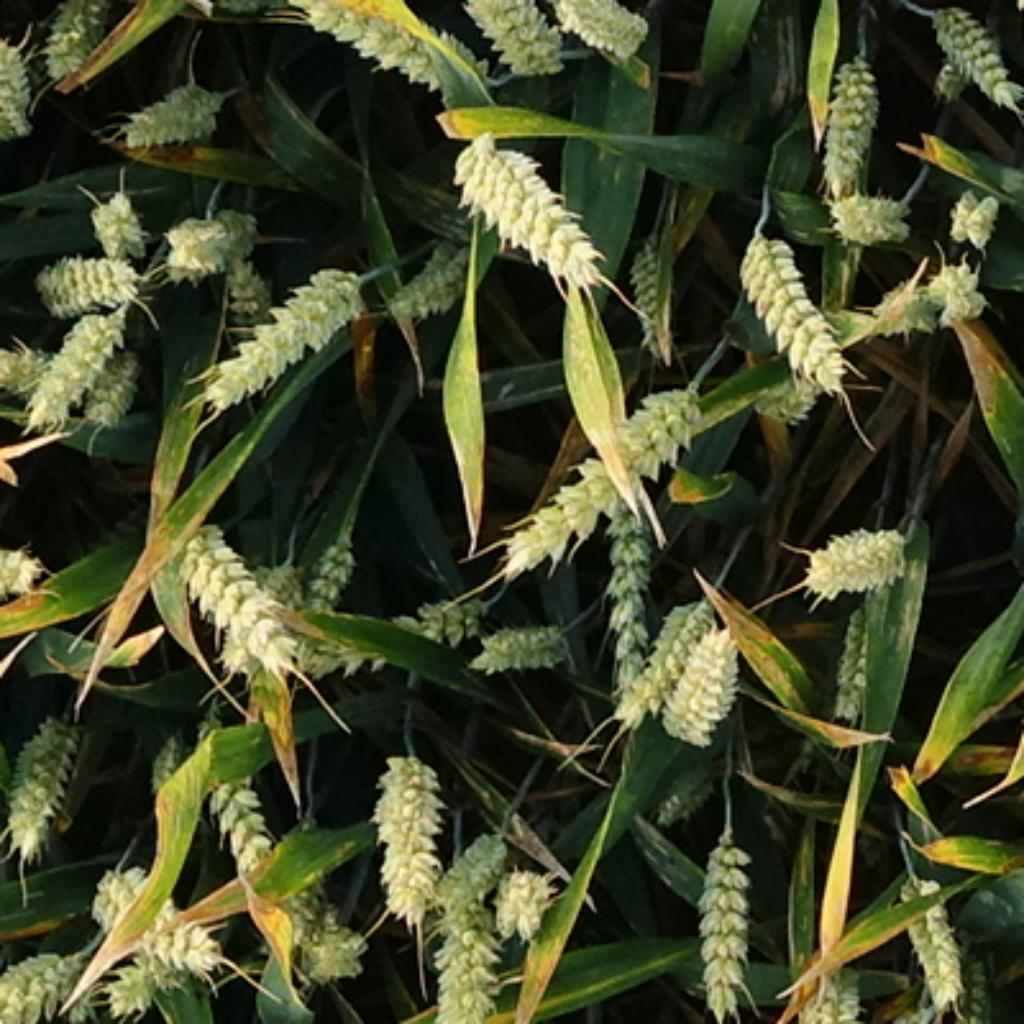0-0: (488, 381, 701, 578), (445, 124, 619, 296), (204, 253, 378, 409), (299, 583, 496, 691), (173, 508, 296, 678), (273, 0, 468, 99), (737, 238, 854, 402), (89, 857, 222, 982), (596, 468, 660, 719), (366, 757, 453, 931), (622, 593, 721, 744), (25, 296, 143, 422), (686, 831, 762, 1016), (181, 742, 289, 872), (2, 698, 89, 852), (381, 204, 491, 317), (273, 870, 368, 983), (925, 0, 1023, 108), (798, 516, 913, 603), (818, 46, 888, 186), (156, 202, 266, 289), (670, 611, 747, 734), (430, 0, 563, 71), (115, 66, 230, 148), (824, 588, 901, 709), (896, 880, 970, 1003), (427, 893, 496, 1024), (294, 522, 355, 668), (623, 226, 687, 359), (209, 248, 289, 353), (25, 240, 145, 307), (471, 606, 576, 670), (647, 747, 734, 821), (40, 0, 125, 74), (148, 714, 227, 791), (781, 955, 868, 1024), (0, 951, 79, 1024), (440, 821, 509, 903), (826, 176, 913, 240), (550, 0, 655, 53), (486, 857, 558, 934), (922, 256, 991, 323), (87, 337, 140, 424), (870, 266, 942, 330), (744, 360, 821, 414), (0, 41, 38, 146), (84, 184, 148, 245), (947, 187, 1003, 248), (0, 334, 49, 398), (104, 965, 161, 1016), (2, 532, 46, 591), (930, 54, 970, 114)
